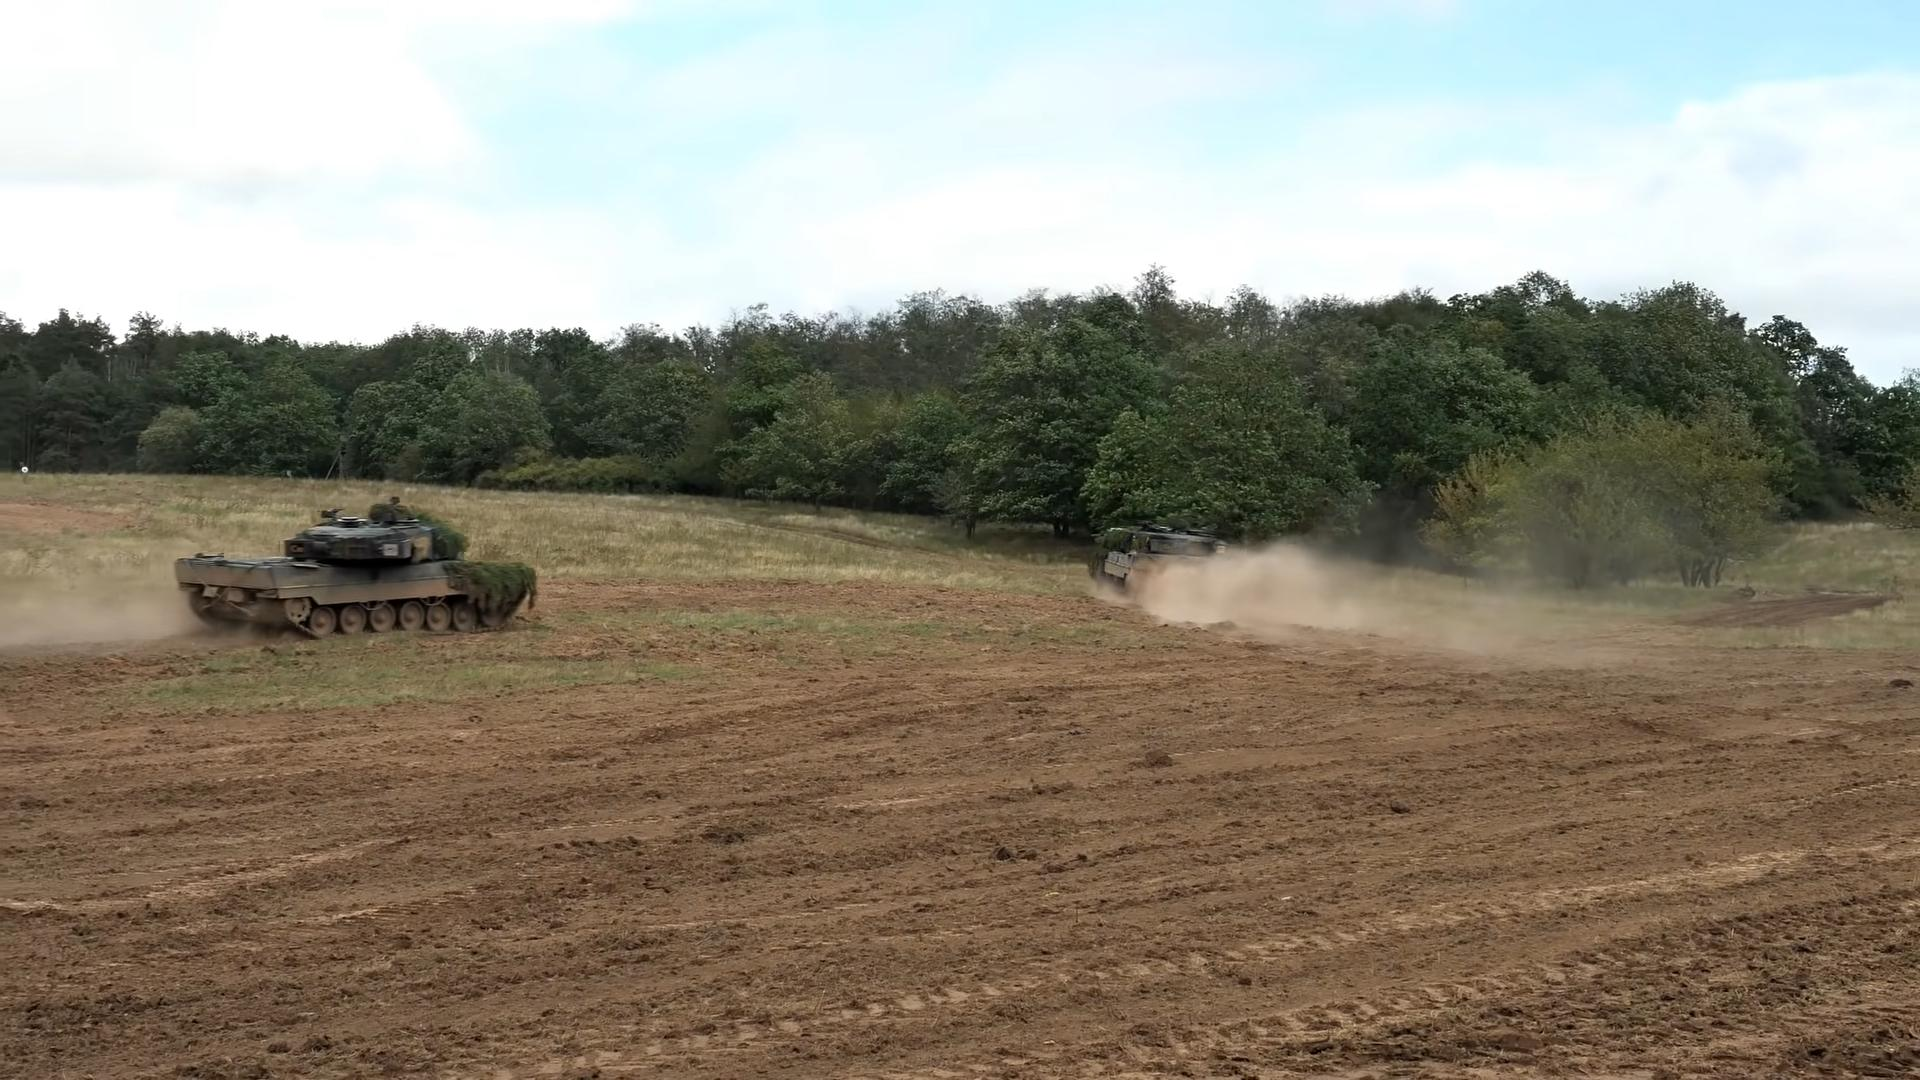tank: (174, 502, 535, 640), (1087, 524, 1234, 601)
